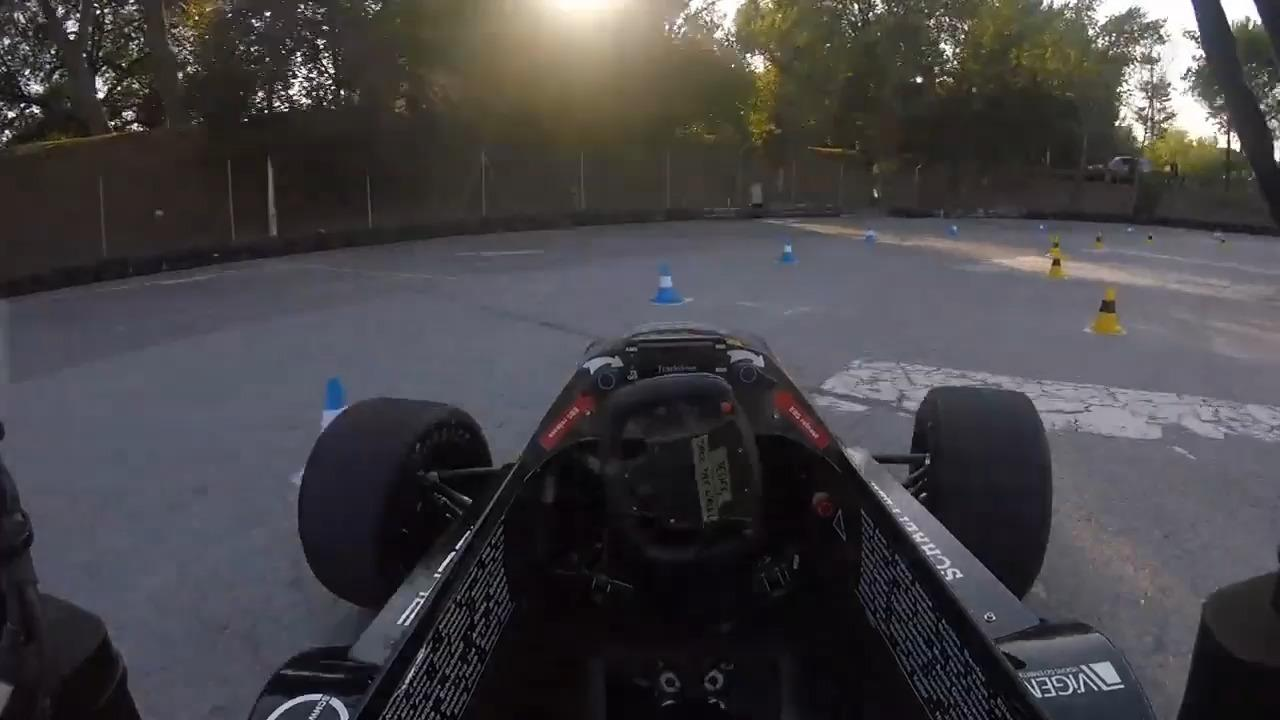blue_cone: (297, 361, 364, 460), (644, 256, 701, 309), (773, 229, 808, 274)
yellow_cone: (1084, 284, 1130, 337), (1044, 238, 1068, 286)
